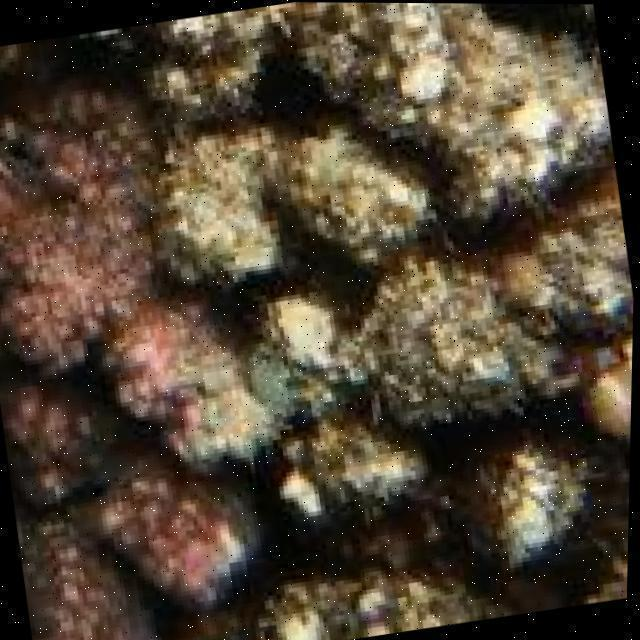Dead Coral: (168, 111, 439, 274), (370, 259, 537, 417)
